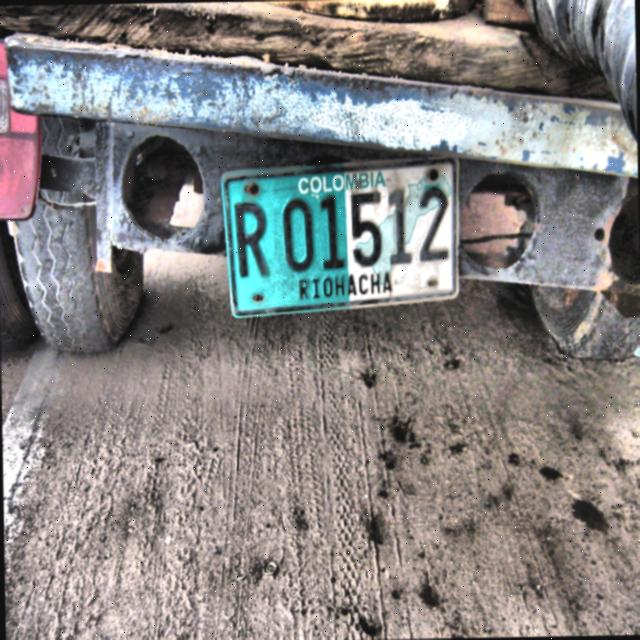plate: (221, 156, 459, 317)
